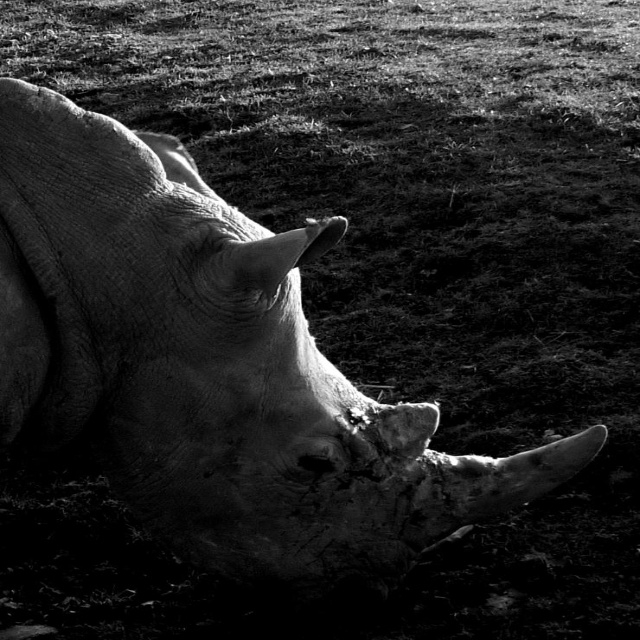Rhinoceros: (0, 64, 614, 610)
